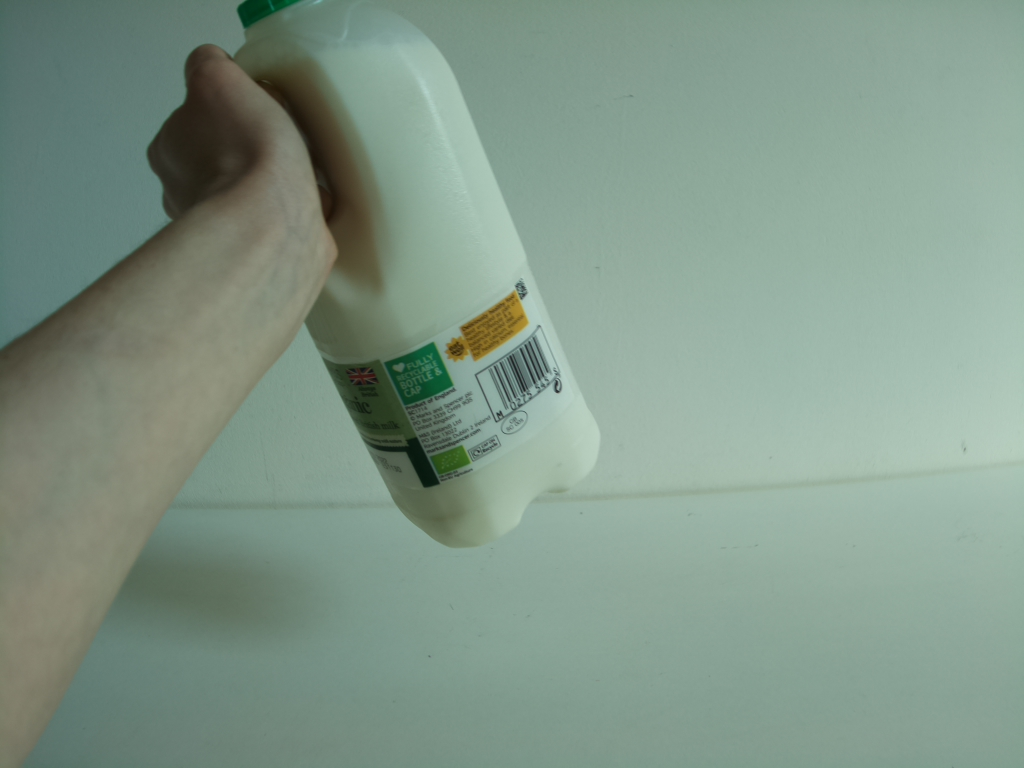milk: (231, 1, 612, 556)
